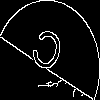C: (25, 25, 66, 83)
